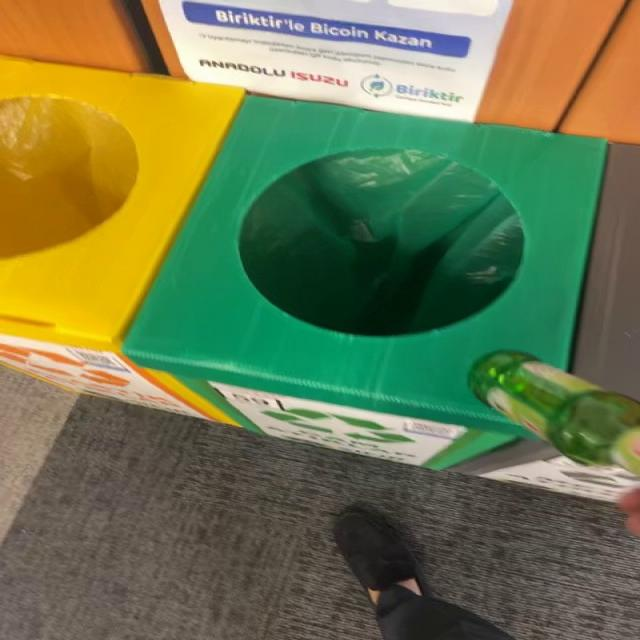glass: (469, 351, 640, 476)
